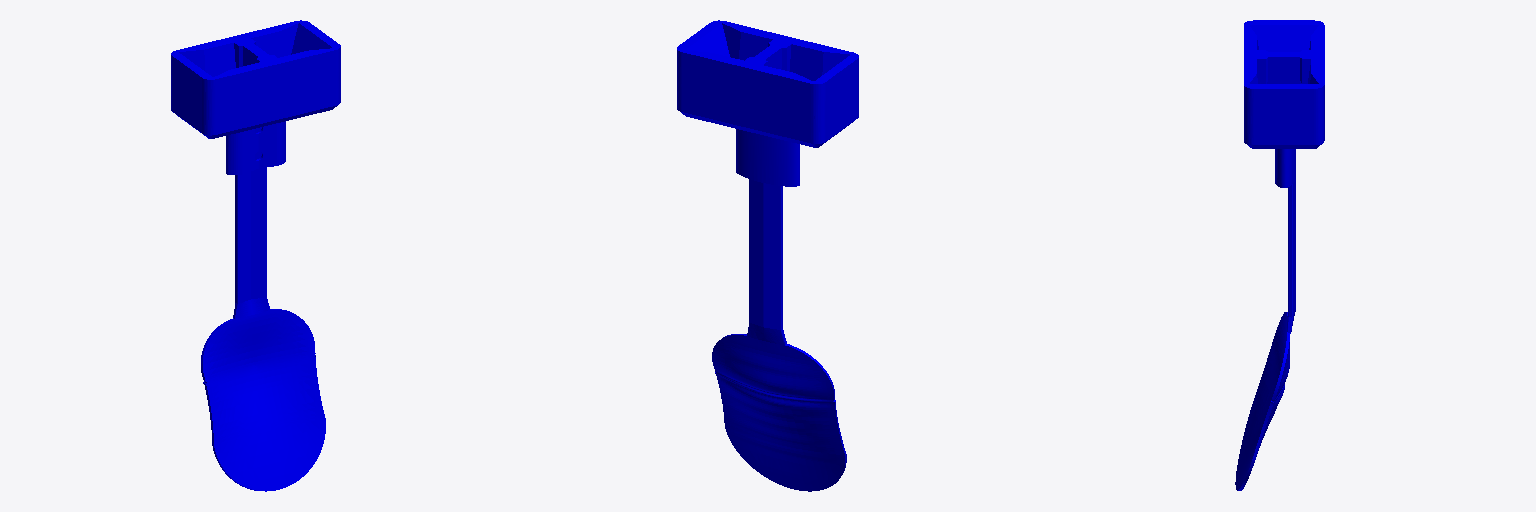
URDF robot description (spoon_flatten_projected):
<?xml version="1.0"?>

<robot name="spoon_flatten_projected">
  <link name="spoon_flatten_frame_projected">
    <visual>
      <geometry>
        <mesh filename="package://iai_kitchen/meshes/racks/BoxyToolholder/holder_spoon_flat.stl"/>
      </geometry>
      <material name="blue">
         <color rgba="0.0 0.0 1.0 1.0"/>
      </material>
    </visual>
  </link>
</robot>

--- What the picture shows (computed from the rendered views, not written in the file) ---
The picture shows the robot from 3 angles, left to right: view 1: azimuth 30°, elevation 25°; view 2: azimuth 150°, elevation 25°; view 3: azimuth 270°, elevation 25°; orthographic projection.
Robot: spoon_flatten_projected — 1 links, 0 joints (none); root link spoon_flatten_frame_projected; default pose: all joints at 0.
Visible links, largest first — view 1: spoon_flatten_frame_projected; view 2: spoon_flatten_frame_projected; view 3: spoon_flatten_frame_projected.
Link boxes in pixels (x1=…): spoon_flatten_frame_projected: x1=171, y1=20, x2=340, y2=491; spoon_flatten_frame_projected: x1=677, y1=20, x2=858, y2=491; spoon_flatten_frame_projected: x1=1235, y1=20, x2=1324, y2=490.
Bounding box of the posed robot: 0.08 × 0.0441 × 0.2355 m (x, y, z).
Meshes: 1 distinct files referenced, 1 mesh visuals loaded (1 binary STL).